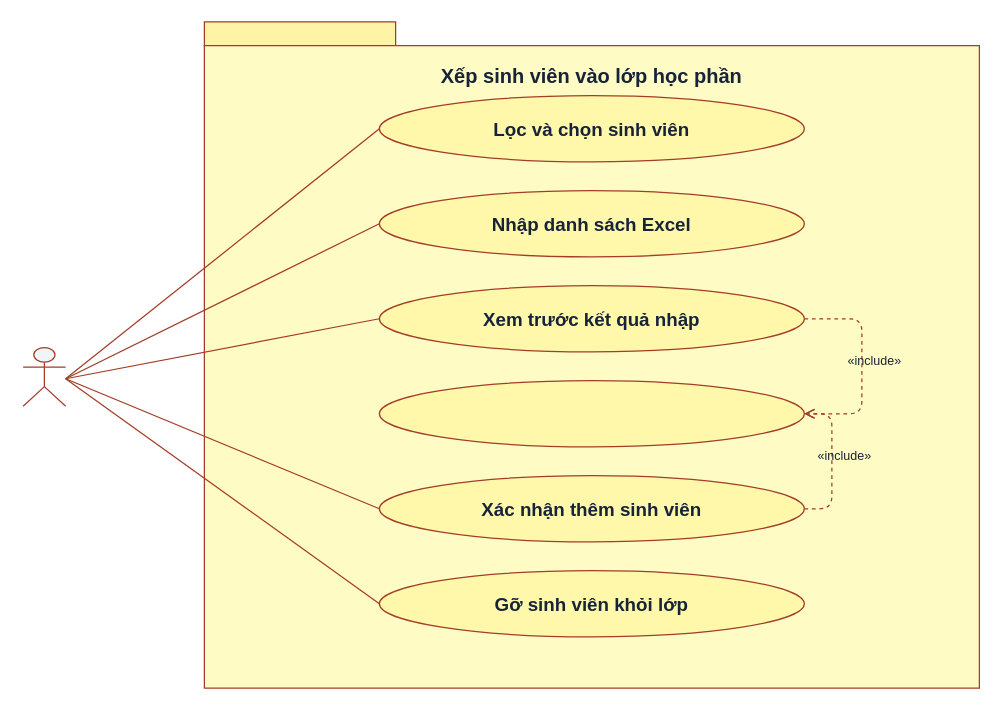
Image size: 1001x710. Some labels were removed from this diagram. The shapes that lost their labels are listed below. From the top down, each one's box as (x1, y1, x2, y2) in pixels, then its label:
(22, 346, 66, 406): Quản trị viên
(378, 379, 804, 447): Kiểm tra điều kiện xếp lớp
